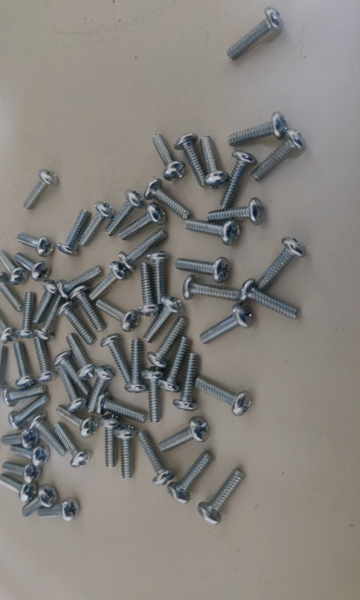shortscrew: (251, 129, 307, 182), (227, 7, 284, 59), (198, 467, 246, 525), (239, 278, 302, 321), (257, 238, 306, 292), (167, 451, 215, 505), (196, 376, 253, 417), (137, 431, 176, 487), (200, 304, 253, 345), (144, 178, 194, 221), (118, 229, 168, 272), (221, 151, 258, 209), (228, 112, 289, 147), (147, 317, 188, 369), (159, 415, 211, 453), (105, 190, 146, 238), (119, 203, 169, 241), (56, 300, 97, 346), (158, 337, 191, 393), (77, 201, 115, 249), (69, 284, 106, 333), (53, 422, 92, 468), (175, 134, 208, 188), (28, 414, 68, 458), (53, 352, 91, 398), (100, 335, 133, 387), (57, 209, 92, 258), (89, 262, 131, 302), (153, 133, 187, 182), (96, 392, 148, 424), (200, 134, 230, 189), (8, 394, 52, 431), (56, 363, 88, 413), (57, 265, 104, 299), (173, 353, 200, 412), (185, 218, 241, 246), (208, 198, 266, 225), (183, 275, 241, 302), (95, 299, 141, 333), (55, 405, 98, 439), (66, 333, 96, 381), (176, 258, 231, 284), (25, 170, 60, 210), (87, 365, 115, 415), (141, 368, 165, 424), (34, 294, 62, 341), (114, 425, 137, 480), (33, 280, 61, 325), (21, 484, 58, 518), (125, 337, 147, 394), (0, 473, 39, 503), (34, 338, 59, 384), (13, 342, 36, 389), (15, 253, 52, 282), (0, 272, 26, 313), (37, 498, 81, 522), (4, 384, 48, 408), (0, 251, 30, 285), (16, 233, 56, 258), (8, 445, 51, 467), (2, 461, 41, 484), (1, 428, 39, 450), (0, 306, 19, 344), (0, 345, 9, 392)
